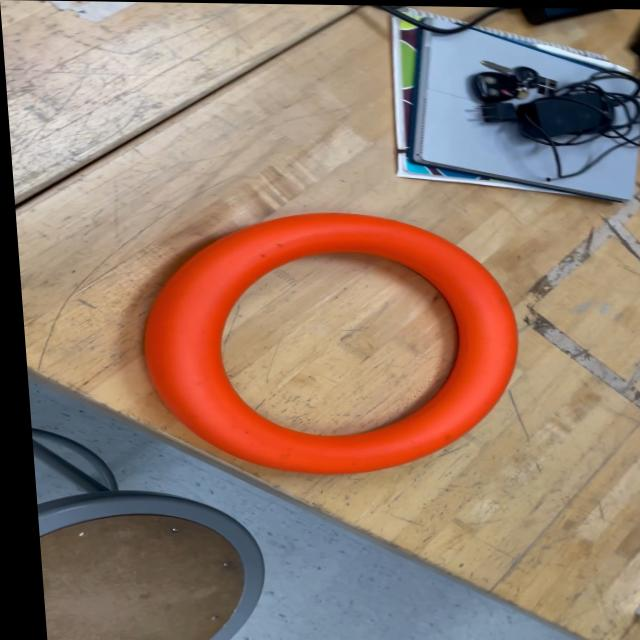note: (128, 208, 524, 476)
